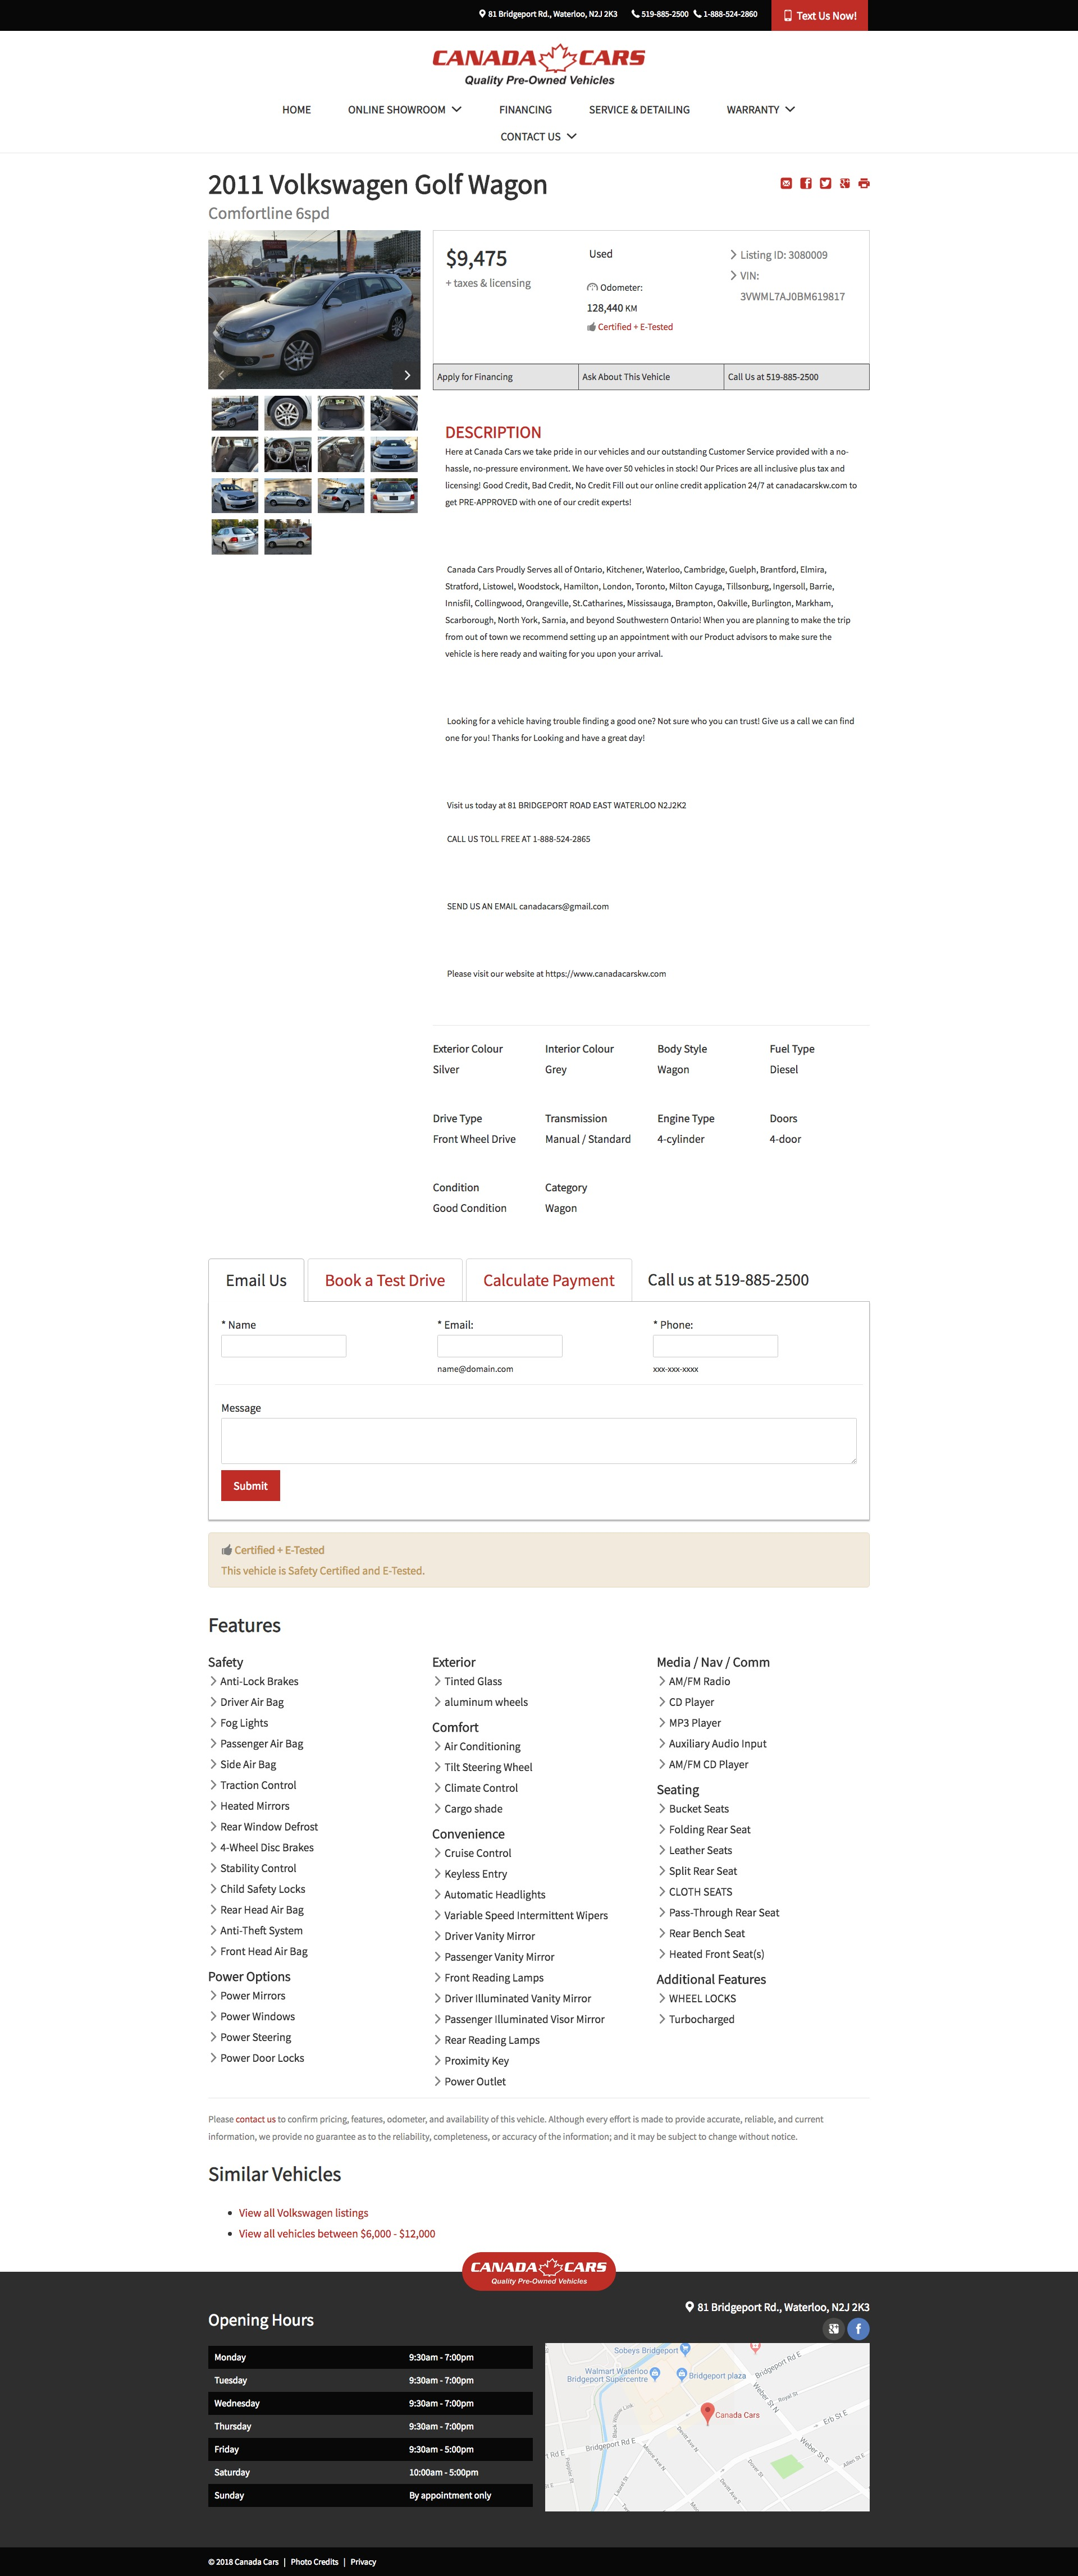car: (401, 368, 417, 384)
